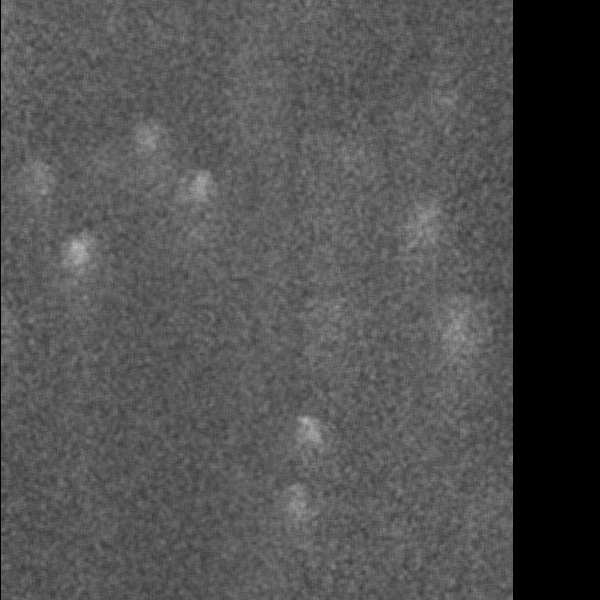spark: (403, 293, 456, 410), (52, 231, 94, 314), (279, 483, 323, 530), (411, 199, 438, 272), (131, 118, 165, 169), (185, 167, 207, 223), (291, 412, 319, 454)
